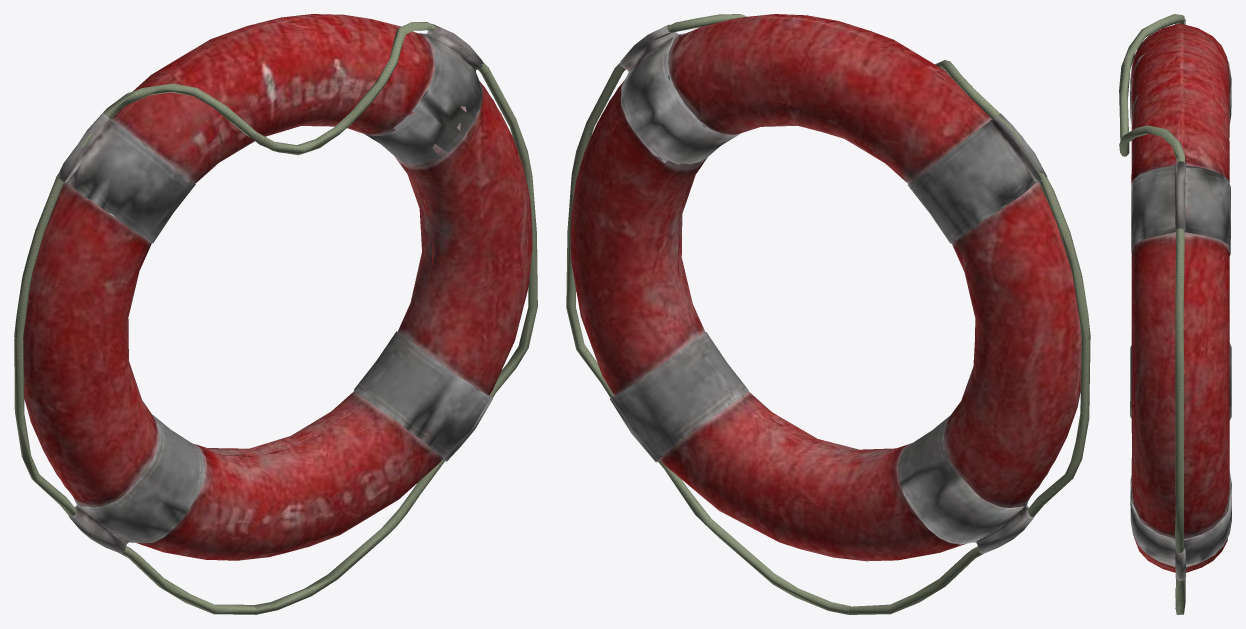
Rendered from lifebuoy.glb.
3 views of the same model, side by side, from view 1: azimuth 30°, elevation 25°; view 2: azimuth 150°, elevation 25°; view 3: azimuth 270°, elevation 25° (orthographic). The views are drawn at different scales.
Parts seen in each view (by area): view 1: lifebuoy; view 2: lifebuoy; view 3: lifebuoy.
Boxes of the visible parts, bbox=[...] form: lifebuoy: bbox=[14, 14, 537, 614]; lifebuoy: bbox=[566, 14, 1090, 614]; lifebuoy: bbox=[1119, 14, 1231, 614].
Size of the model in its own units: 0.783 by 0.8395 by 0.1553.
Materials: 1 (1 with a texture image).
